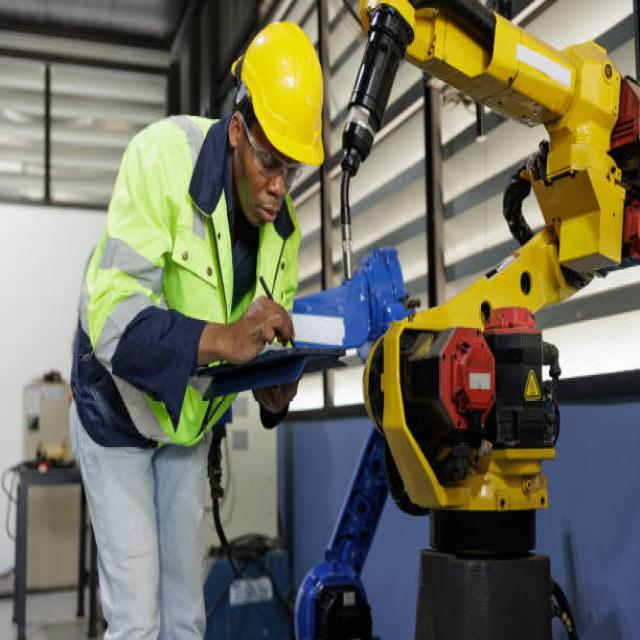Robotic-arm: (337, 0, 640, 533)
